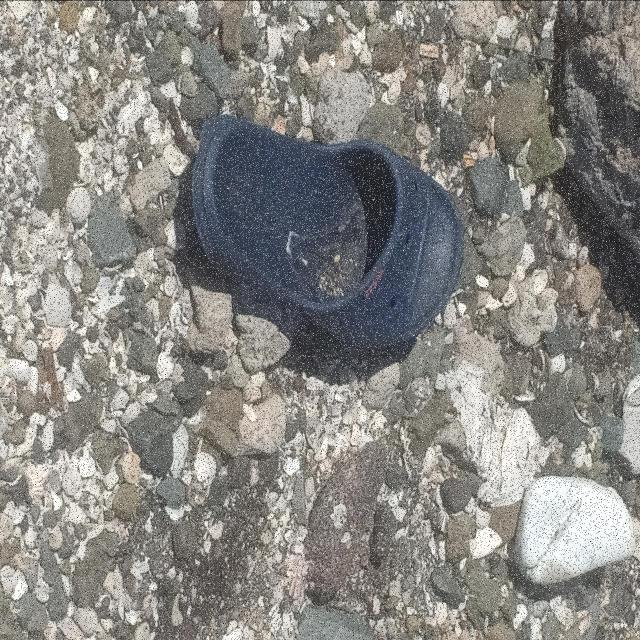rubber_waste: (191, 113, 466, 351)
